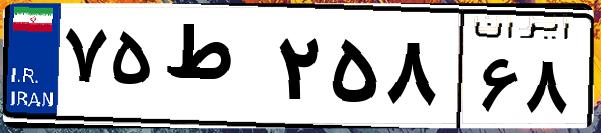2: (270, 28, 330, 110)
5: (330, 28, 385, 110), (110, 28, 158, 98)
6: (475, 38, 525, 113)
7: (57, 26, 110, 100)
8: (385, 28, 445, 110), (525, 38, 570, 115)
ط: (158, 20, 270, 120)
